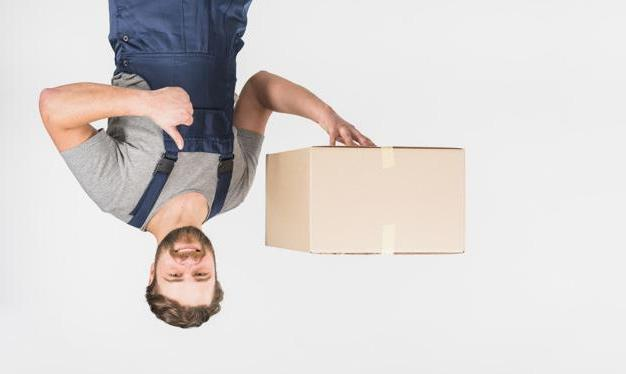thumbsdown: (162, 87, 194, 151)
